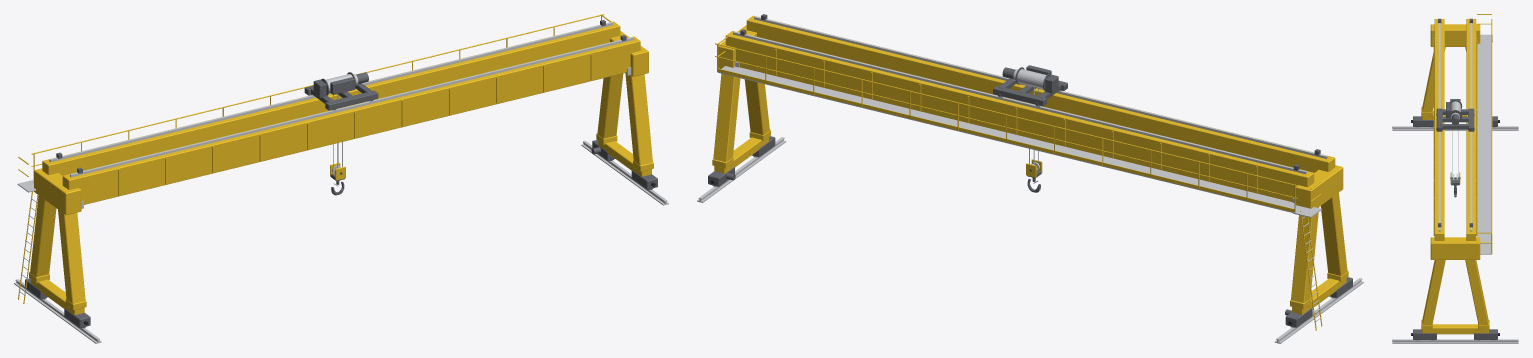
File: overhead_gantry_crane.glb
The picture shows the model from 3 angles, left to right: view 1: azimuth 30°, elevation 25°; view 2: azimuth 150°, elevation 25°; view 3: azimuth 270°, elevation 25°; orthographic projection. The views are drawn at different scales.
Visible parts, largest first — view 1: bridge, trolley; view 2: bridge, trolley; view 3: bridge, trolley, hook.
Part boxes in pixels (bbox=[...]): bridge: bbox=[14, 14, 668, 343]; trolley: bbox=[304, 72, 378, 111]; bridge: bbox=[697, 14, 1363, 343]; trolley: bbox=[993, 65, 1067, 106]; bridge: bbox=[1392, 14, 1518, 343]; trolley: bbox=[1436, 99, 1474, 131]; hook: bbox=[1450, 130, 1460, 197].
Size of the model in its own units: 25.13 by 6.83 by 6.
